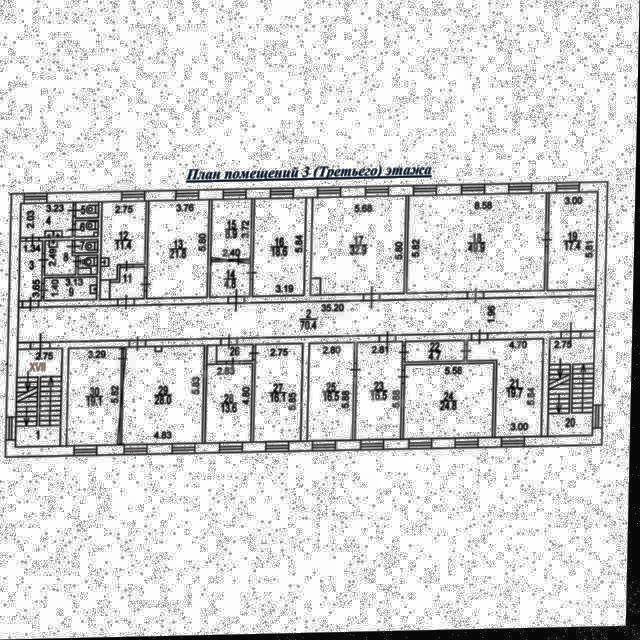room: (19, 299, 597, 343), (408, 195, 549, 294), (312, 196, 406, 297), (125, 346, 206, 445), (469, 341, 546, 439), (406, 366, 496, 439), (150, 200, 211, 299), (68, 347, 122, 447), (255, 199, 307, 297), (255, 342, 304, 444), (549, 194, 598, 293), (357, 342, 404, 442), (18, 348, 64, 448), (310, 343, 356, 442), (550, 340, 595, 438), (208, 363, 254, 444), (103, 202, 146, 280), (212, 199, 252, 261), (21, 202, 74, 237), (211, 262, 251, 297), (407, 342, 466, 364), (21, 241, 43, 300), (45, 277, 98, 300), (45, 240, 78, 275), (111, 268, 146, 299), (218, 345, 253, 361), (76, 220, 99, 237), (79, 256, 99, 274), (77, 203, 100, 218), (76, 240, 99, 253)
